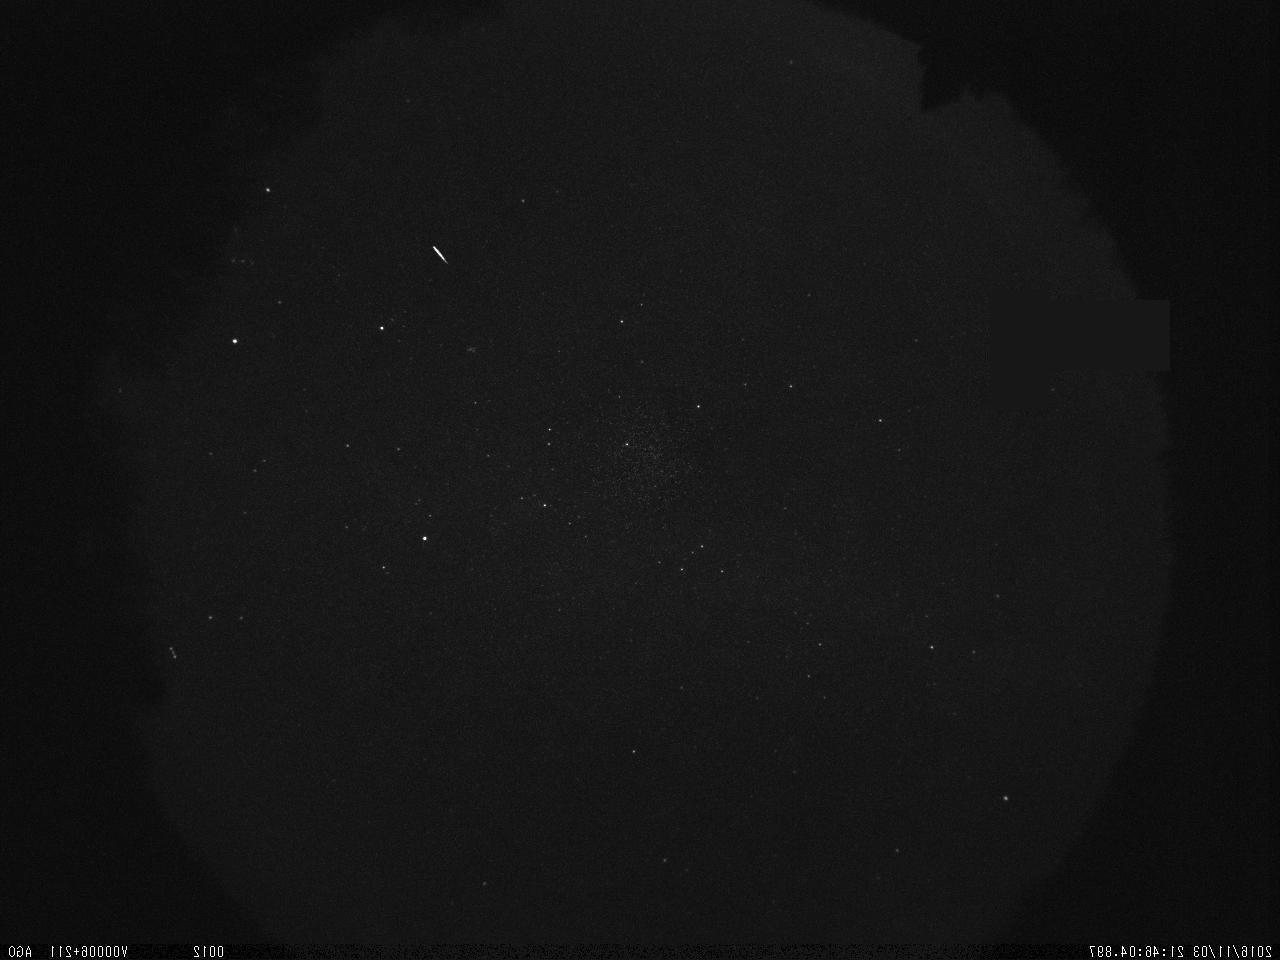meteor: (417, 234, 462, 282)
